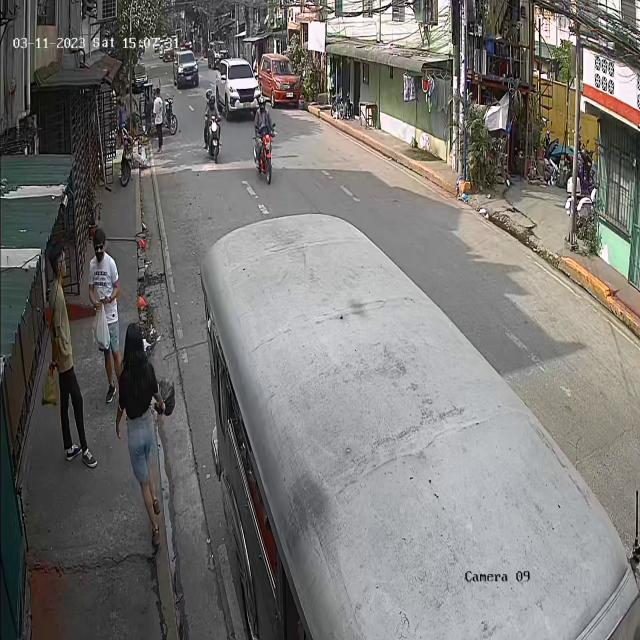human: (115, 322, 176, 545), (43, 242, 97, 468), (90, 228, 120, 368)
trash: (88, 295, 110, 357), (153, 366, 175, 424), (40, 354, 58, 410)
